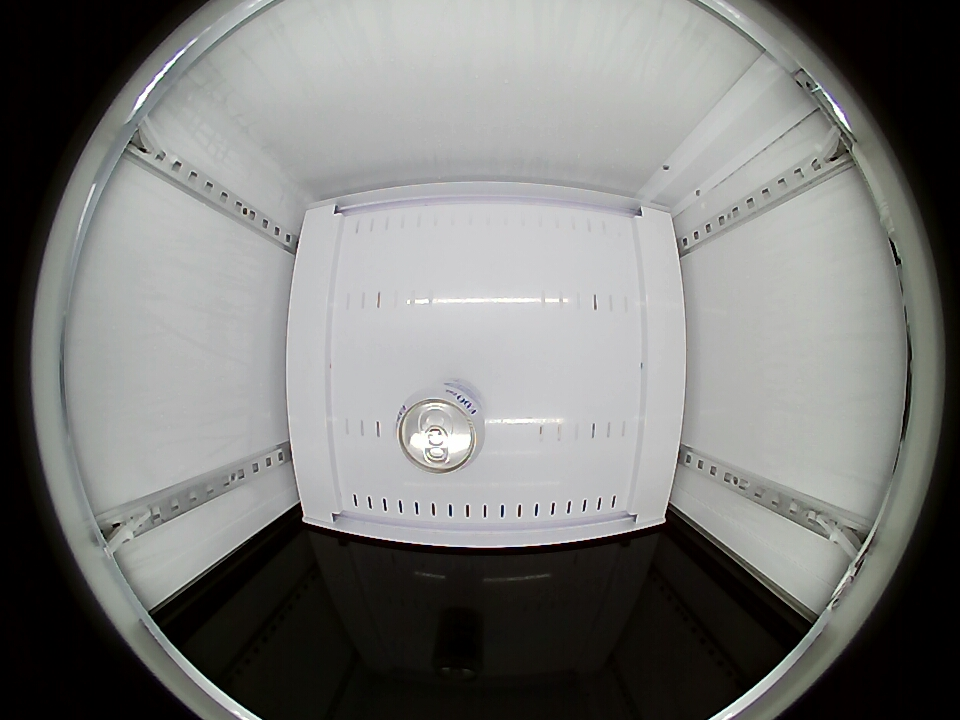rusuanjunqishui: (396, 383, 486, 475)
